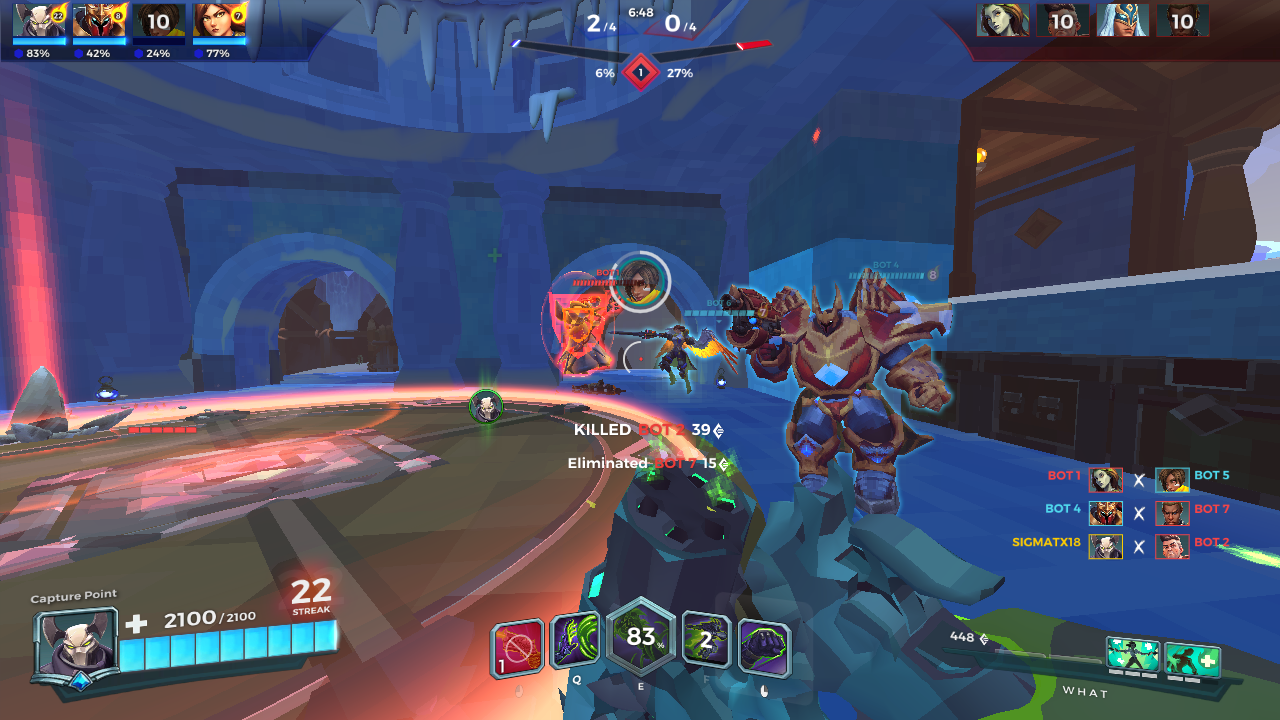model: (552, 287, 610, 384)
